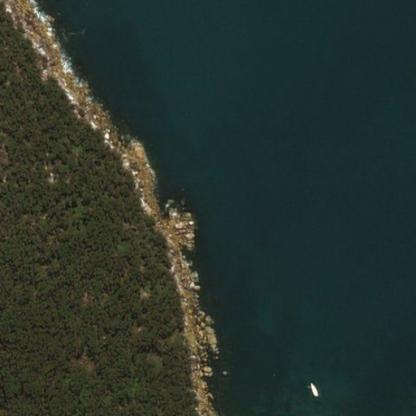ship: (302, 376, 324, 400)
